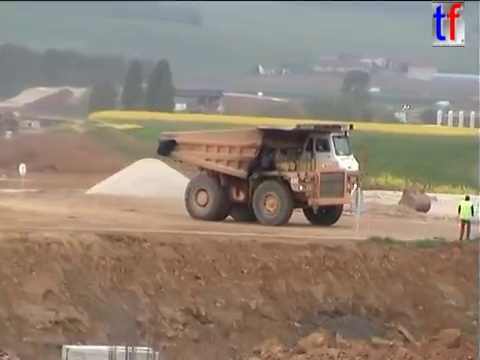truck: (155, 121, 363, 228)
worker: (455, 192, 476, 242)
